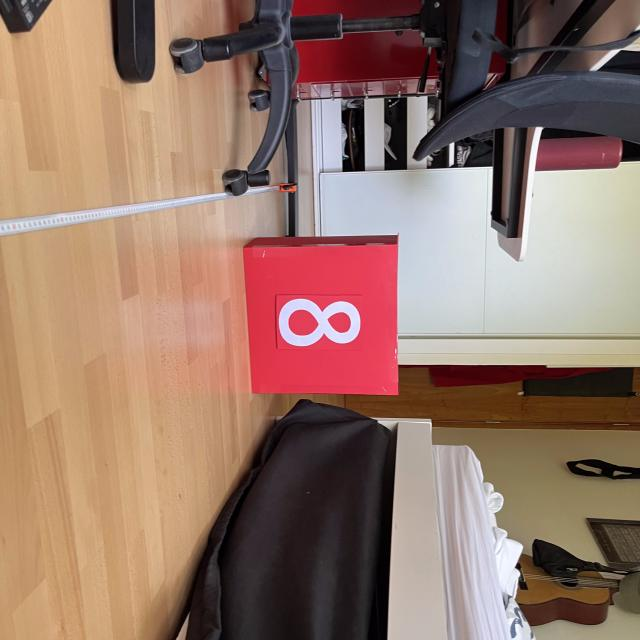box: (238, 230, 403, 398)
